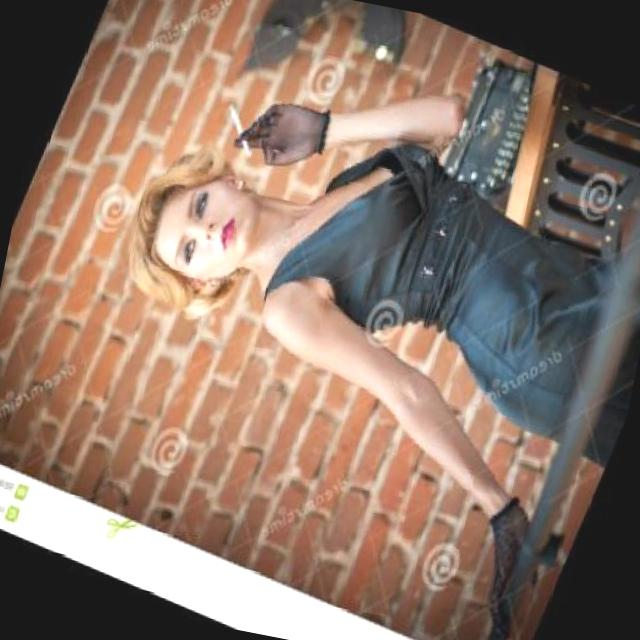smoke: (208, 100, 270, 165)
